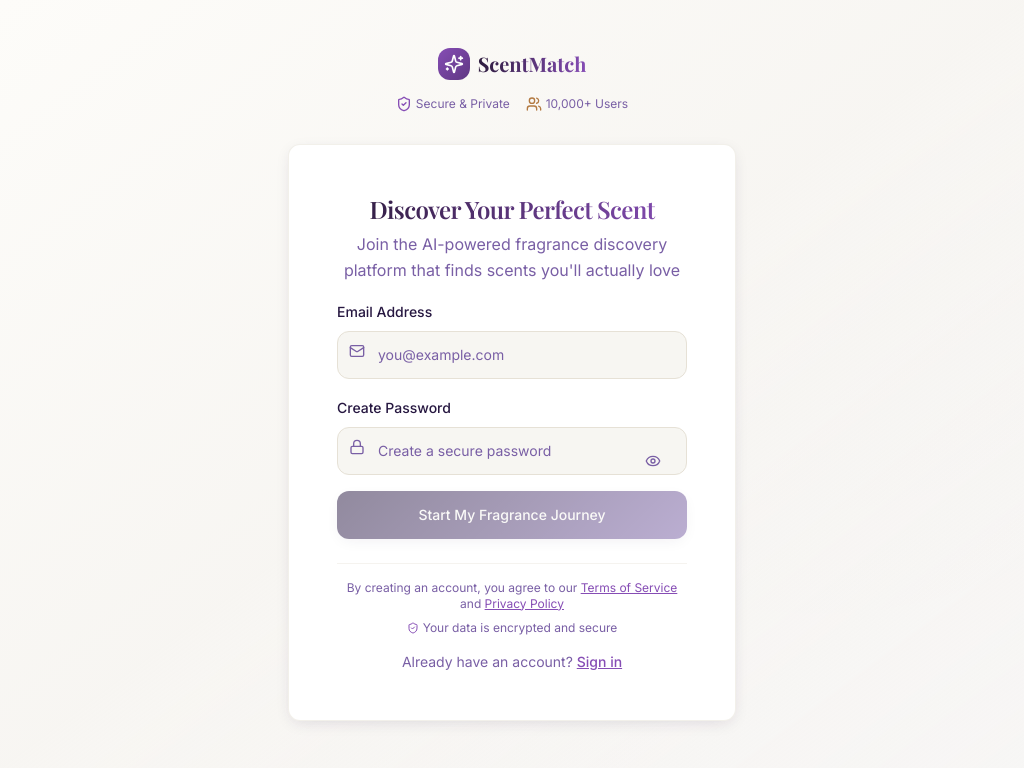
it: Authentication Page Conversion Psychology › 4. User Psychology and Confidence Building › 4.2 Error Recovery Psychology › error messages guide users to success with helpful tone
Type "existing@example.com" into the field labelled "Email Address" at (512, 354), box x1=337 y1=330 x2=687 y2=378
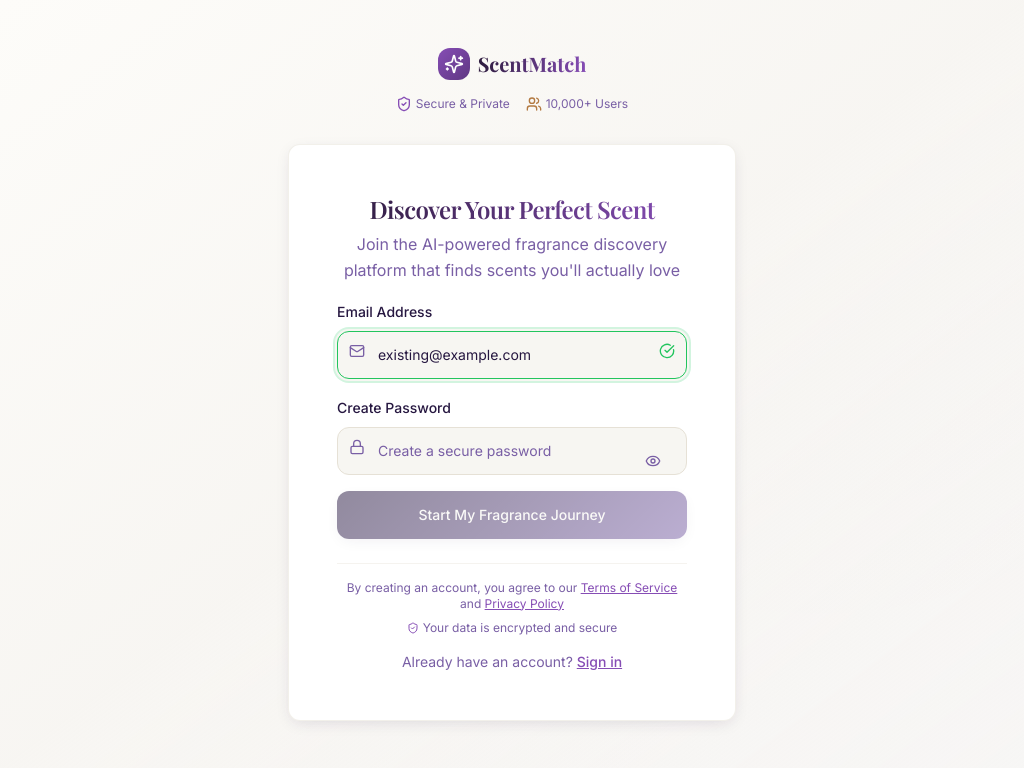
Type "SecurePass123" into the password field labelled "Create Password" at (512, 450), box x1=337 y1=426 x2=687 y2=474
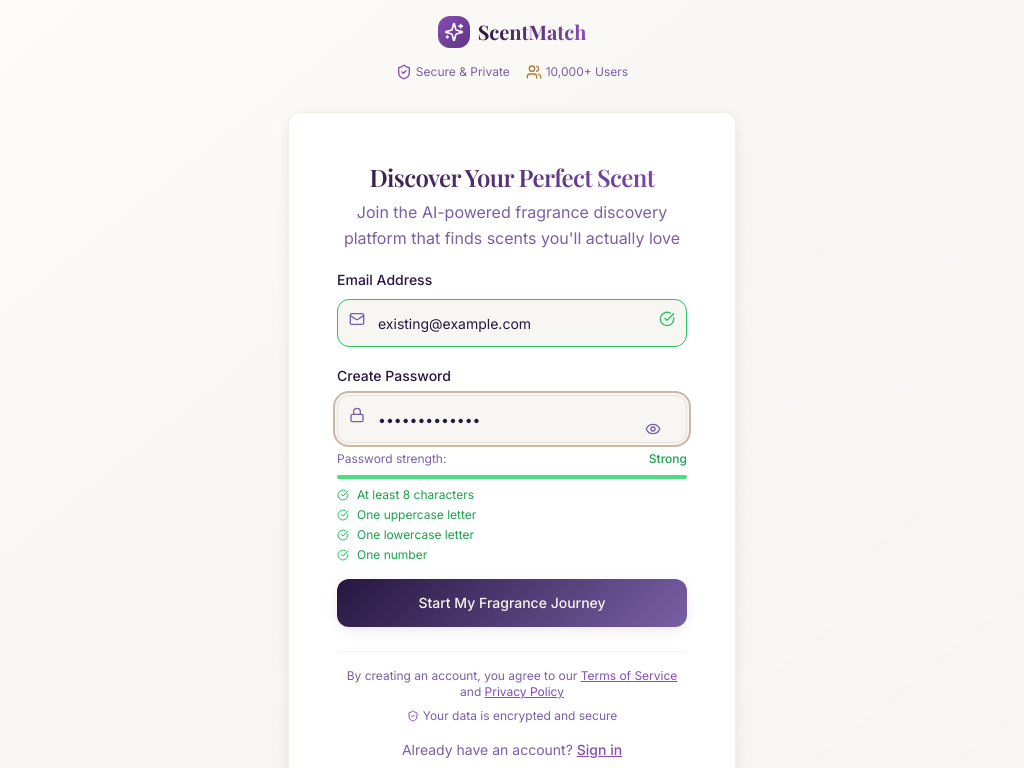
Click the button "Start My Fragrance Journey" at (512, 603), box x1=337 y1=579 x2=687 y2=627
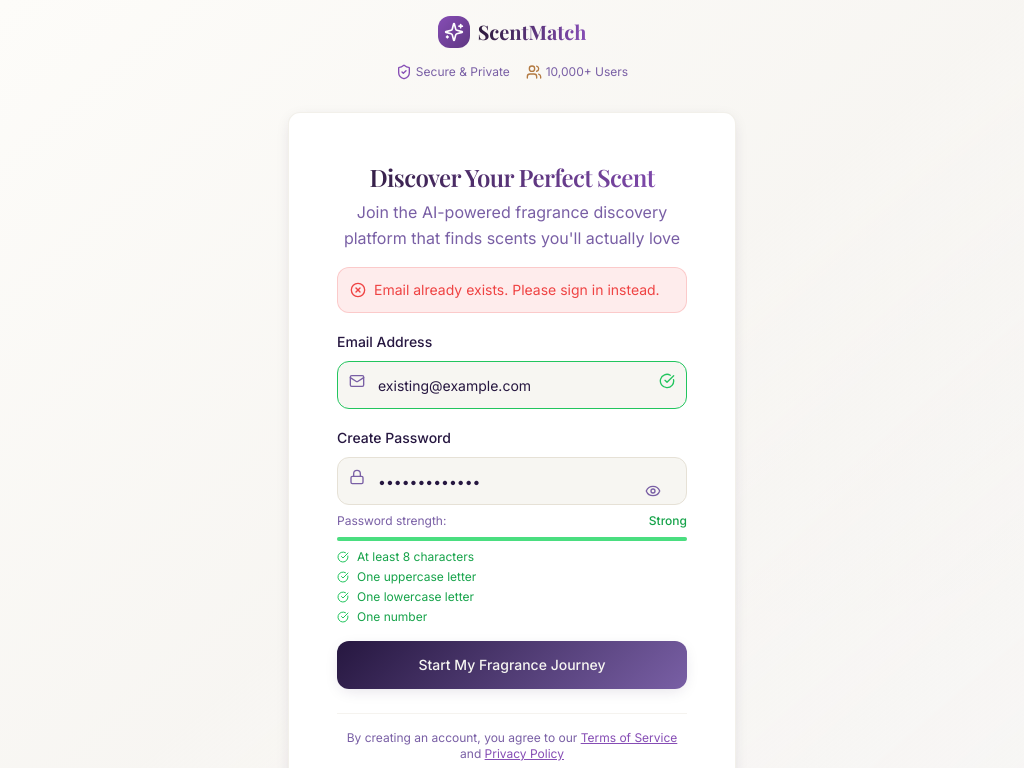
Expected: the text "Email already exists. Please sign in instead." is shown, x1=374 y1=280 x2=660 y2=300
